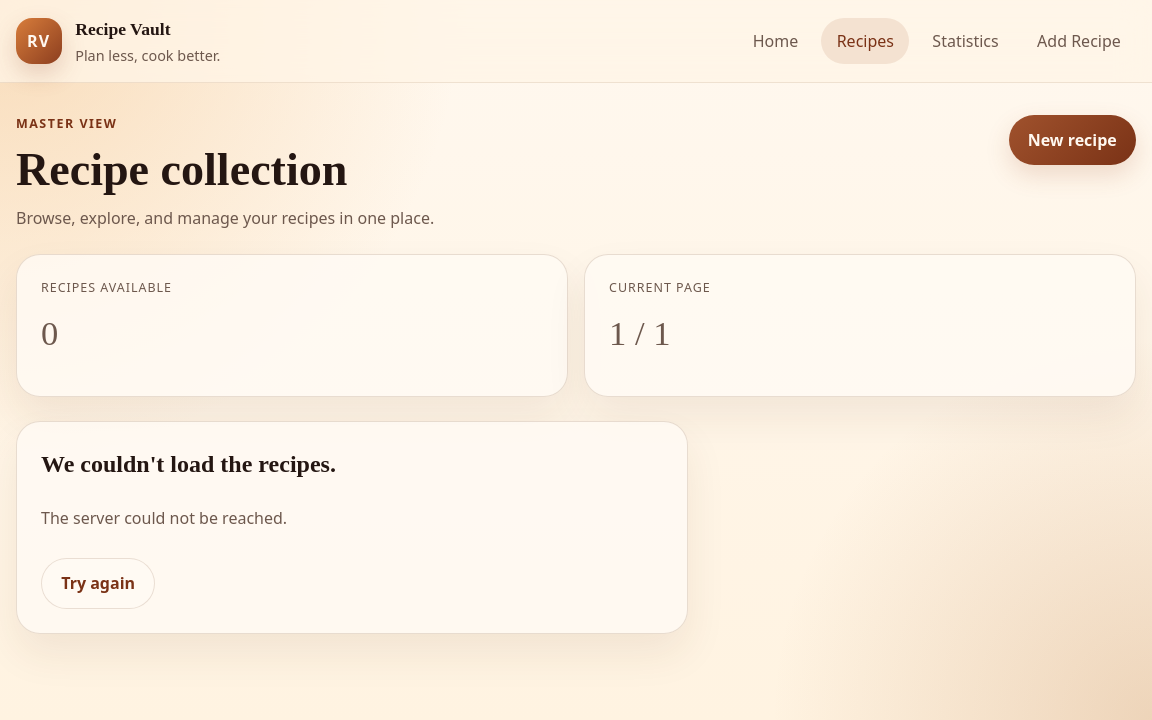
Scenario: Recipes page › shows a retry panel when the recipes request fails
Expected: the heading "We couldn't load the recipes." is shown, [41,451,336,477]
Click the button "Try again": point(98, 583) [41,558,155,609]
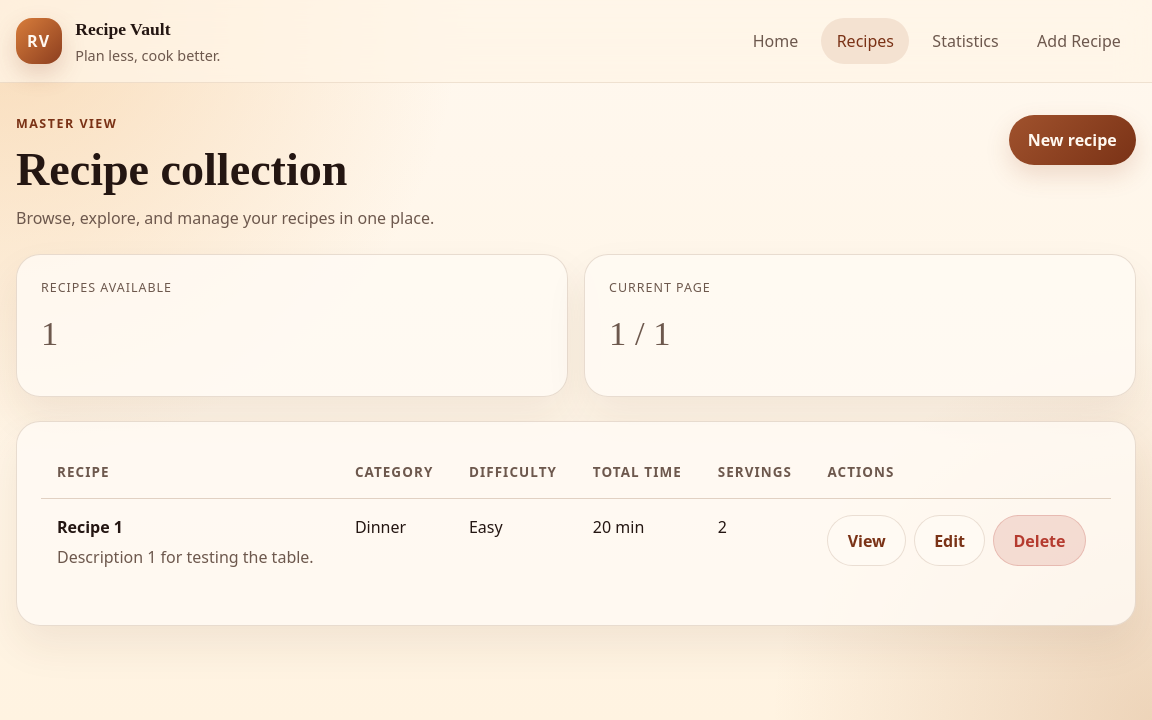
Result: the link "Recipe 1" is shown at [57,516,123,538]
